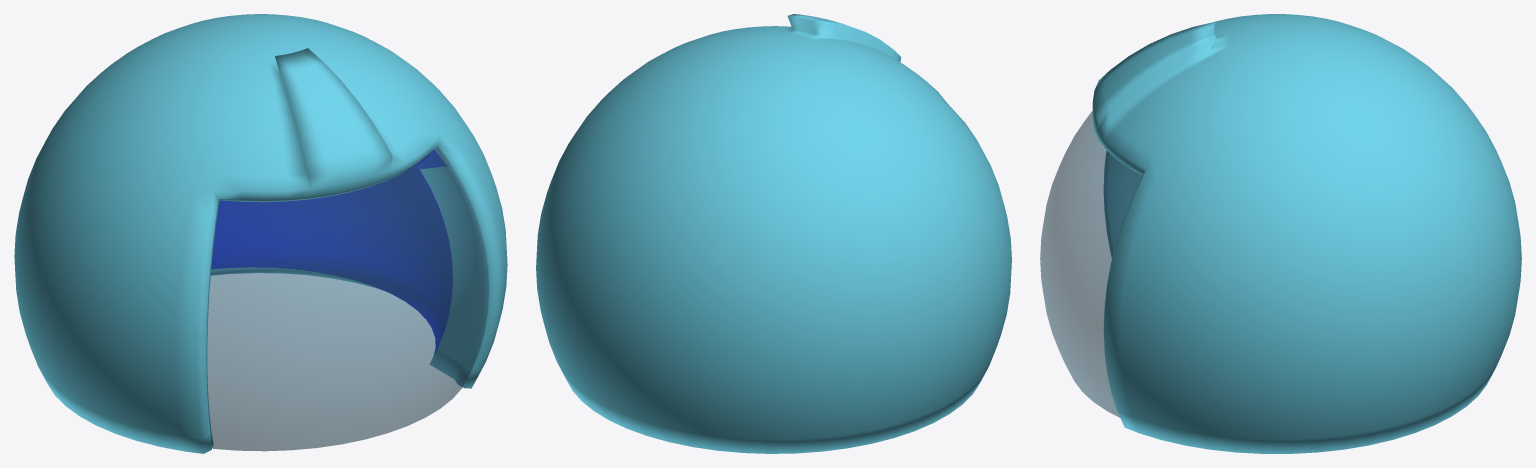
Rendered from CircleHeadTwo.glb.
The picture shows the model from 3 angles, left to right: view 1: azimuth 30°, elevation 25°; view 2: azimuth 150°, elevation 25°; view 3: azimuth 270°, elevation 25°; orthographic projection. The views are drawn at different scales.
Visible parts, largest first — view 1: Sphere.006, Sphere.007; view 2: Sphere.006; view 3: Sphere.006, Sphere.007.
Boxes of the visible parts, bbox=[...] form: Sphere.006: bbox=[14, 14, 507, 453]; Sphere.007: bbox=[206, 146, 489, 451]; Sphere.006: bbox=[536, 14, 1011, 453]; Sphere.006: bbox=[1092, 14, 1521, 453]; Sphere.007: bbox=[1040, 111, 1142, 417].
Size of the model in its own units: 2.17 by 1.63 by 2.14.
3 materials, 1 textured.
